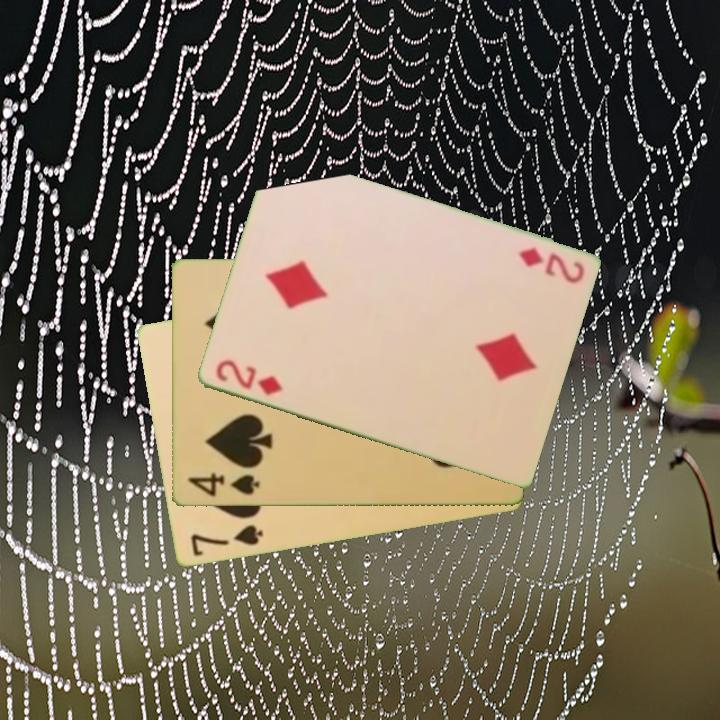2d: (212, 356, 285, 399), (514, 244, 587, 286)
4s: (184, 469, 262, 500)
7s: (187, 522, 266, 560)
